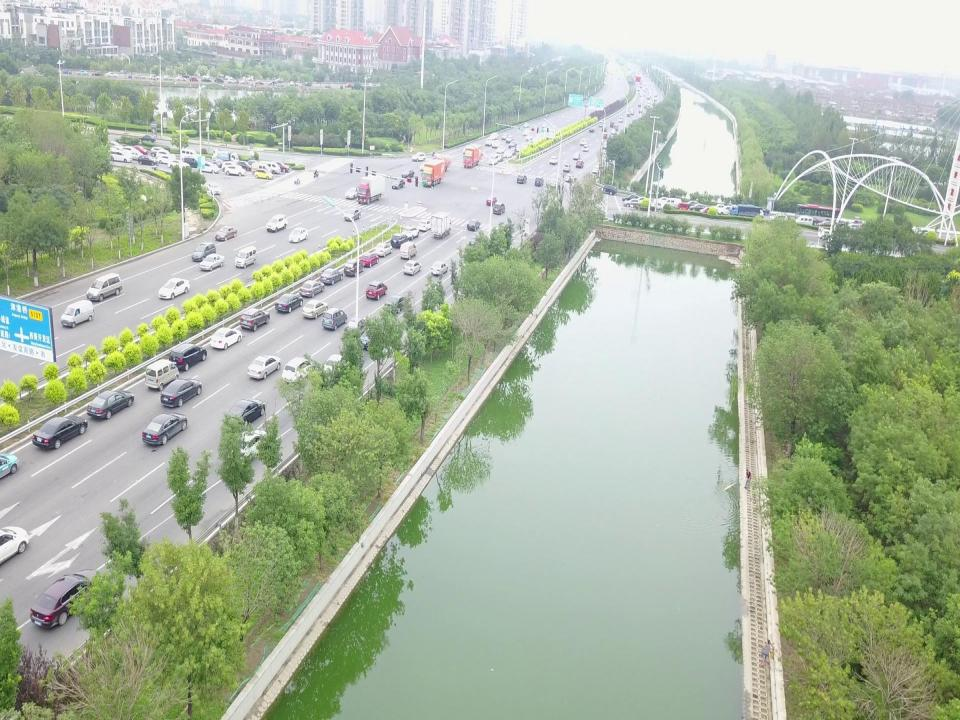bus: (794, 202, 842, 227)
car: (30, 568, 100, 627), (33, 415, 87, 450), (228, 429, 270, 466), (142, 411, 186, 446), (87, 389, 134, 420), (0, 526, 29, 574), (161, 377, 201, 407), (225, 399, 267, 427), (168, 343, 207, 370), (282, 356, 315, 384), (248, 354, 281, 381), (320, 352, 346, 384), (210, 326, 243, 349), (241, 307, 270, 332), (158, 278, 190, 300), (0, 452, 20, 487), (359, 324, 384, 350), (275, 294, 303, 314), (199, 253, 225, 272), (303, 299, 327, 319), (384, 295, 408, 315), (299, 280, 325, 298), (366, 279, 388, 300), (192, 242, 216, 261), (345, 318, 365, 340), (319, 267, 343, 285), (267, 214, 287, 233), (214, 225, 236, 241), (344, 258, 364, 275), (108, 150, 132, 164), (288, 227, 308, 243), (403, 260, 421, 276), (401, 224, 419, 240), (374, 242, 394, 256), (360, 253, 378, 267), (430, 261, 448, 275), (168, 159, 189, 171), (768, 212, 788, 224), (156, 149, 176, 161), (157, 153, 177, 165), (225, 165, 245, 177), (391, 232, 409, 245), (186, 155, 204, 168), (818, 229, 839, 240), (150, 144, 169, 156), (344, 208, 360, 222), (345, 186, 361, 200), (102, 140, 124, 150), (138, 154, 158, 165), (126, 148, 144, 160), (272, 161, 290, 173), (846, 222, 862, 235), (199, 161, 217, 172), (850, 219, 865, 232), (255, 169, 272, 180), (466, 218, 480, 231), (207, 182, 221, 195), (417, 219, 432, 231), (717, 206, 735, 216), (131, 144, 147, 155), (208, 157, 224, 168), (236, 160, 252, 171), (392, 178, 406, 190), (689, 203, 707, 212), (119, 146, 137, 155), (222, 160, 238, 170), (685, 200, 702, 209), (754, 206, 769, 216), (819, 220, 835, 229), (698, 207, 714, 216), (624, 199, 642, 207), (750, 209, 764, 219), (712, 203, 726, 213), (246, 160, 261, 169), (493, 203, 505, 214), (412, 150, 425, 160), (623, 194, 639, 202), (634, 196, 648, 205), (463, 144, 474, 155), (402, 168, 414, 178), (486, 195, 497, 205), (535, 175, 544, 187), (654, 197, 669, 204), (420, 161, 430, 171), (551, 178, 561, 188), (549, 156, 559, 166), (564, 174, 575, 183), (649, 203, 663, 210), (517, 174, 527, 183), (484, 137, 494, 146), (525, 140, 535, 148), (592, 165, 601, 173), (576, 159, 584, 168), (497, 145, 505, 154), (492, 139, 500, 148), (509, 140, 517, 149), (563, 163, 571, 171), (573, 151, 581, 159), (495, 154, 503, 162), (504, 150, 512, 158), (505, 136, 513, 144), (526, 132, 534, 140), (523, 129, 531, 137), (501, 133, 508, 140), (580, 137, 586, 145), (490, 132, 498, 138), (582, 144, 588, 151), (523, 121, 529, 128), (542, 121, 548, 128), (509, 148, 515, 154), (601, 126, 607, 132), (589, 127, 595, 133), (603, 132, 608, 138), (610, 129, 616, 134), (626, 111, 630, 117), (630, 107, 634, 113), (638, 108, 642, 113), (630, 110, 634, 114), (638, 101, 641, 106), (640, 97, 644, 100), (646, 96, 650, 99)
truck: (357, 173, 385, 205), (422, 158, 445, 187), (729, 204, 761, 222), (431, 210, 451, 237), (212, 148, 240, 166), (464, 145, 482, 168), (432, 154, 450, 171)
van: (145, 358, 179, 390), (86, 273, 122, 300), (60, 300, 94, 328), (322, 307, 347, 330), (234, 245, 257, 269), (400, 241, 416, 259), (662, 197, 682, 210), (179, 148, 198, 161), (795, 214, 813, 227), (262, 161, 280, 174), (252, 163, 270, 173), (601, 185, 616, 195), (488, 153, 498, 164), (599, 120, 604, 127), (614, 124, 618, 131), (618, 116, 623, 121), (610, 121, 614, 127), (643, 103, 647, 108), (654, 95, 658, 100), (648, 101, 650, 107)
